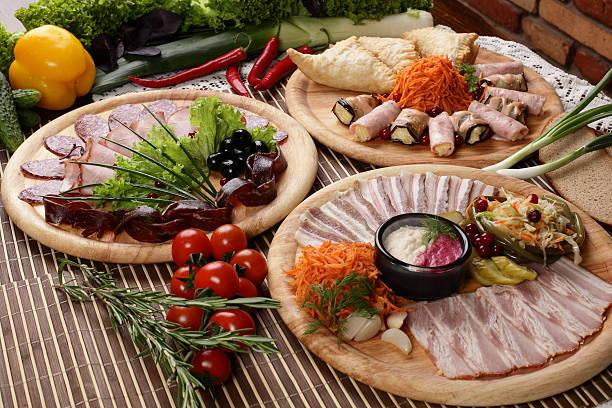Braised Crucian Carp: (267, 162, 612, 400), (0, 89, 318, 262), (285, 33, 566, 161)
